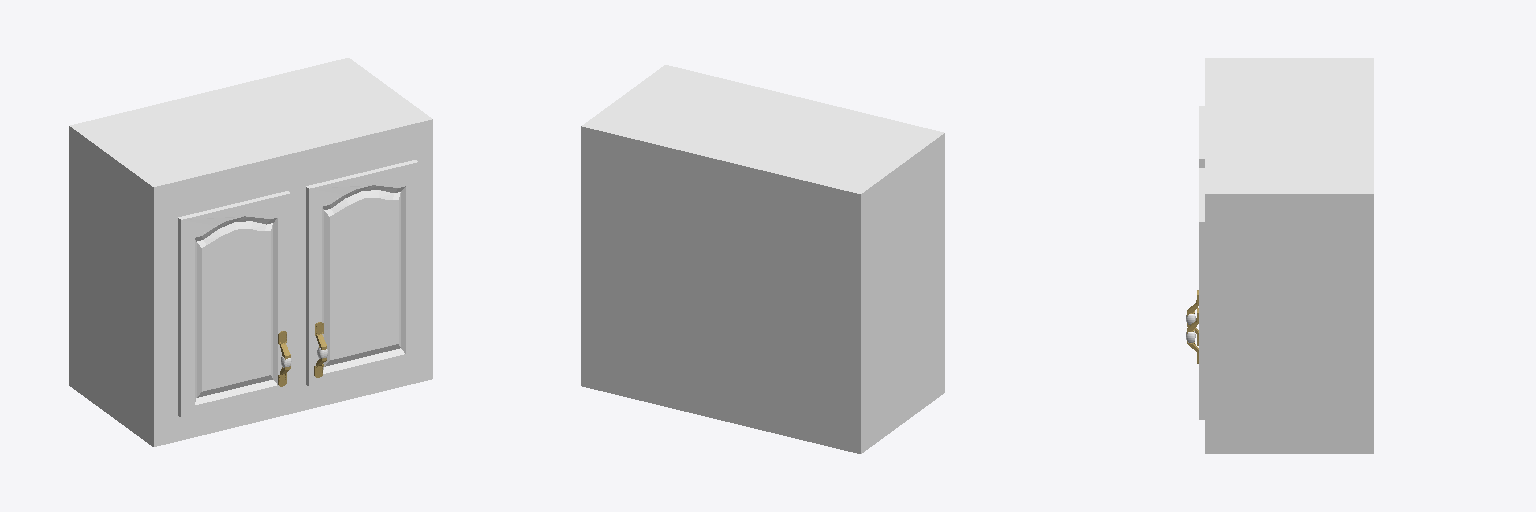
Rendered from 2DoorUpperCabinet.obj.
3 renders of one model, left to right at view 1: azimuth 30°, elevation 25°; view 2: azimuth 150°, elevation 25°; view 3: azimuth 270°, elevation 25°, orthographic.
Visible parts, largest first — view 1: 2DoorUpperCabinet; view 2: 2DoorUpperCabinet; view 3: 2DoorUpperCabinet.
Boxes of the visible parts, box(x1,y1,x2,y2) form: 2DoorUpperCabinet: box(69, 58, 432, 446); 2DoorUpperCabinet: box(581, 65, 944, 453); 2DoorUpperCabinet: box(1186, 58, 1373, 453).
Size of the model in its own units: 6.75 by 6 by 3.93.